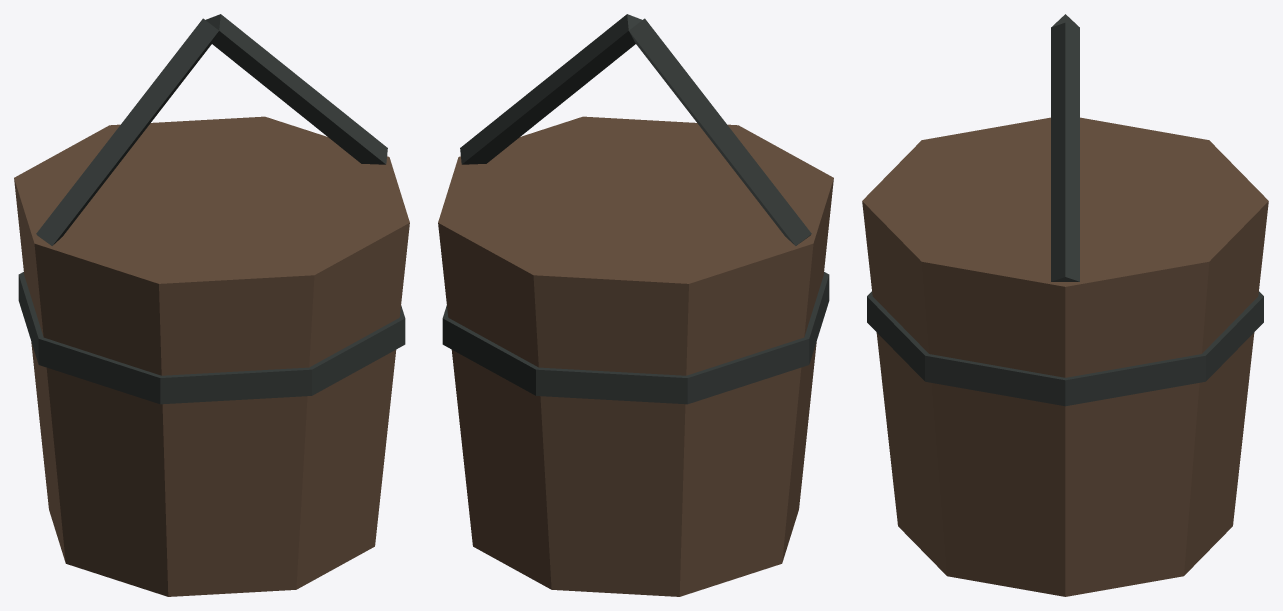
The model's file is bucket.glb.
3 renders of one model, left to right at view 1: azimuth 30°, elevation 25°; view 2: azimuth 150°, elevation 25°; view 3: azimuth 270°, elevation 25°, orthographic.
Parts seen in each view (by area): view 1: slop bucket, bucket hoop, bucket handle, bucket handle.001; view 2: slop bucket, bucket hoop, bucket handle, bucket handle.001; view 3: slop bucket, bucket hoop, bucket handle.001.
Part boxes in pixels (x1=…): slop bucket: x1=14, y1=116, x2=409, y2=596; bucket hoop: x1=18, y1=272, x2=405, y2=404; bucket handle: x1=36, y1=18, x2=218, y2=245; bucket handle.001: x1=206, y1=14, x2=387, y2=164; slop bucket: x1=438, y1=116, x2=833, y2=596; bucket hoop: x1=442, y1=272, x2=829, y2=404; bucket handle: x1=629, y1=18, x2=811, y2=245; bucket handle.001: x1=460, y1=14, x2=641, y2=164; slop bucket: x1=862, y1=117, x2=1268, y2=596; bucket hoop: x1=867, y1=291, x2=1263, y2=406; bucket handle.001: x1=1051, y1=22, x2=1079, y2=281.
Bounding box in the file's own units: 0.17 × 0.2342 × 0.17.
